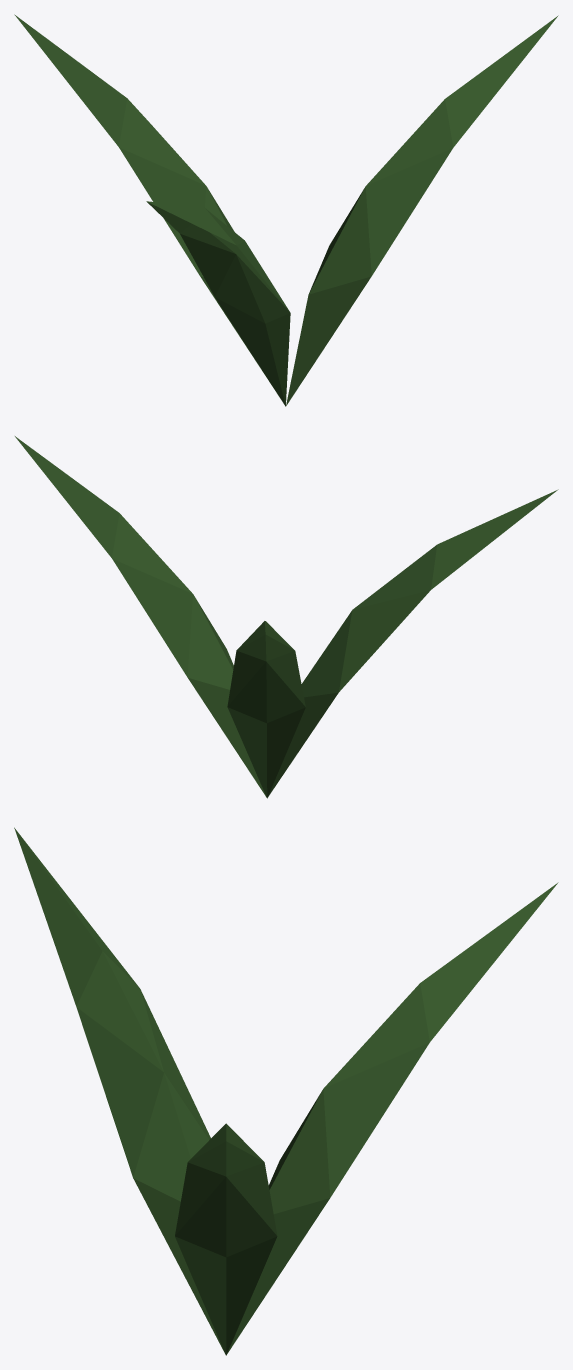
Rendered from Grass_03.fbx.
3 views of the same model, one above another, from view 1: azimuth 30°, elevation 25°; view 2: azimuth 150°, elevation 25°; view 3: azimuth 270°, elevation 25° (orthographic). The views are drawn at different scales.
Visible parts, largest first — view 1: Grass_03; view 2: Grass_03; view 3: Grass_03.
Part boxes in pixels (x1,y1,x2,y2): Grass_03: (14,14,558,406); Grass_03: (15,436,558,798); Grass_03: (14,827,558,1355).
Bounding box in the file's own units: 69.95 × 43.43 × 54.4.
